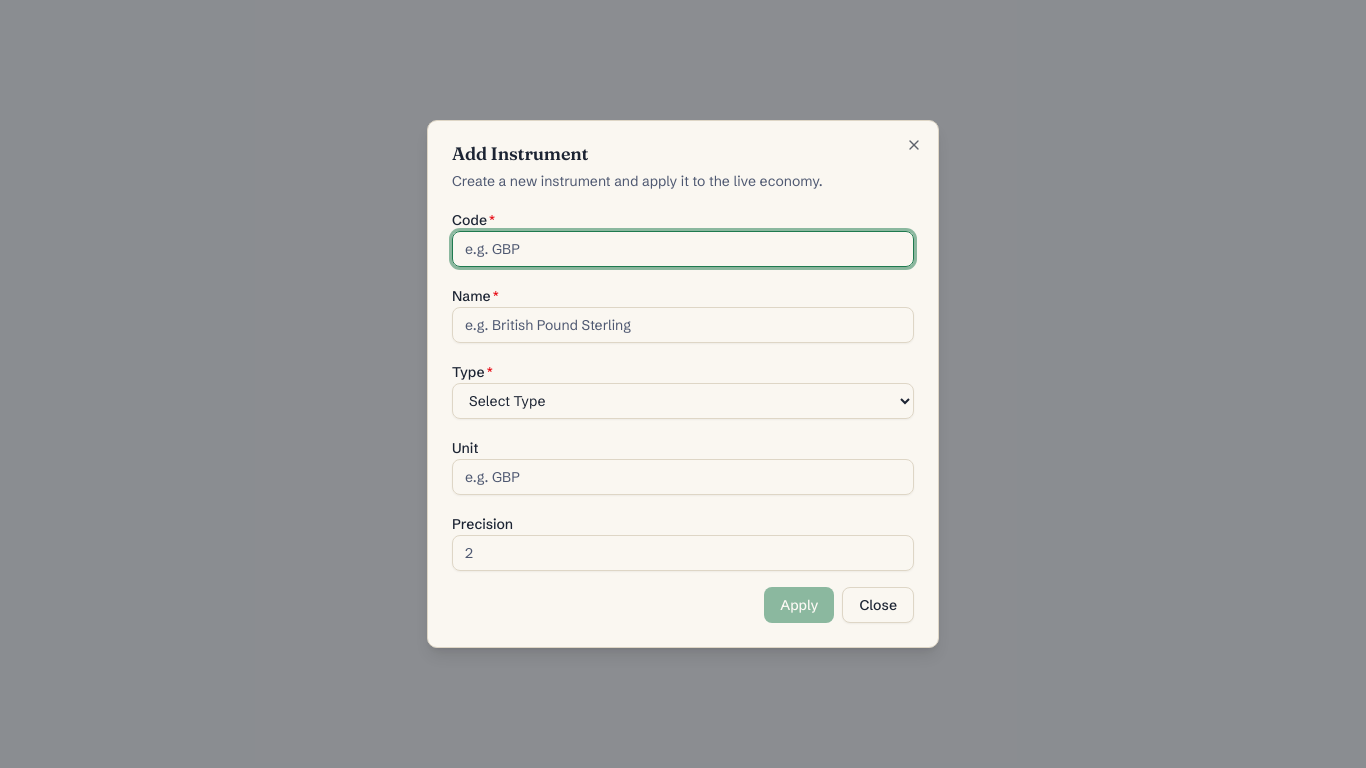
Scenario: ApplyResourceModal › shows error message on failure
This screenshot has width=1366, height=768.
Type "GBP" into the field labelled "Code" at coordinates (683, 249), box [452,231,914,267]
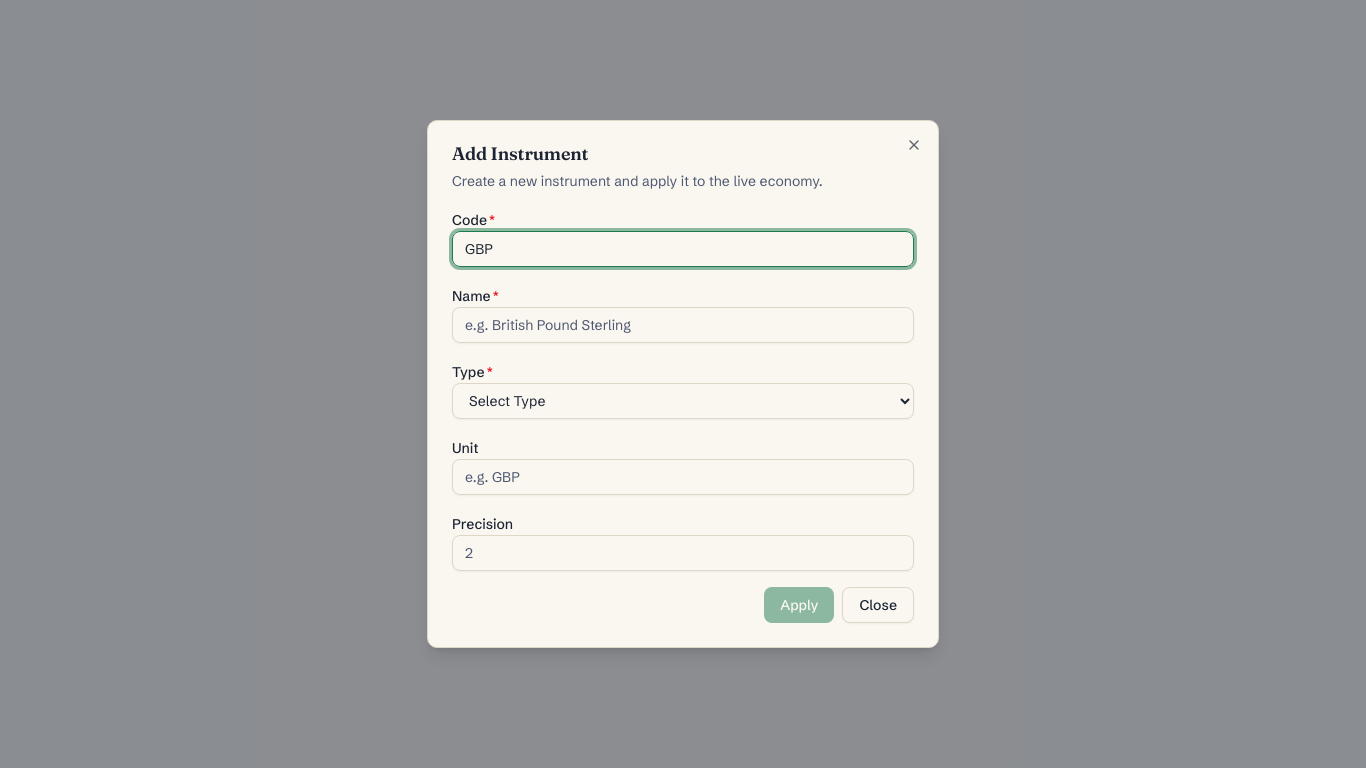
Type "British Pound" into the field labelled "Name" at coordinates (683, 325), box [452,307,914,343]
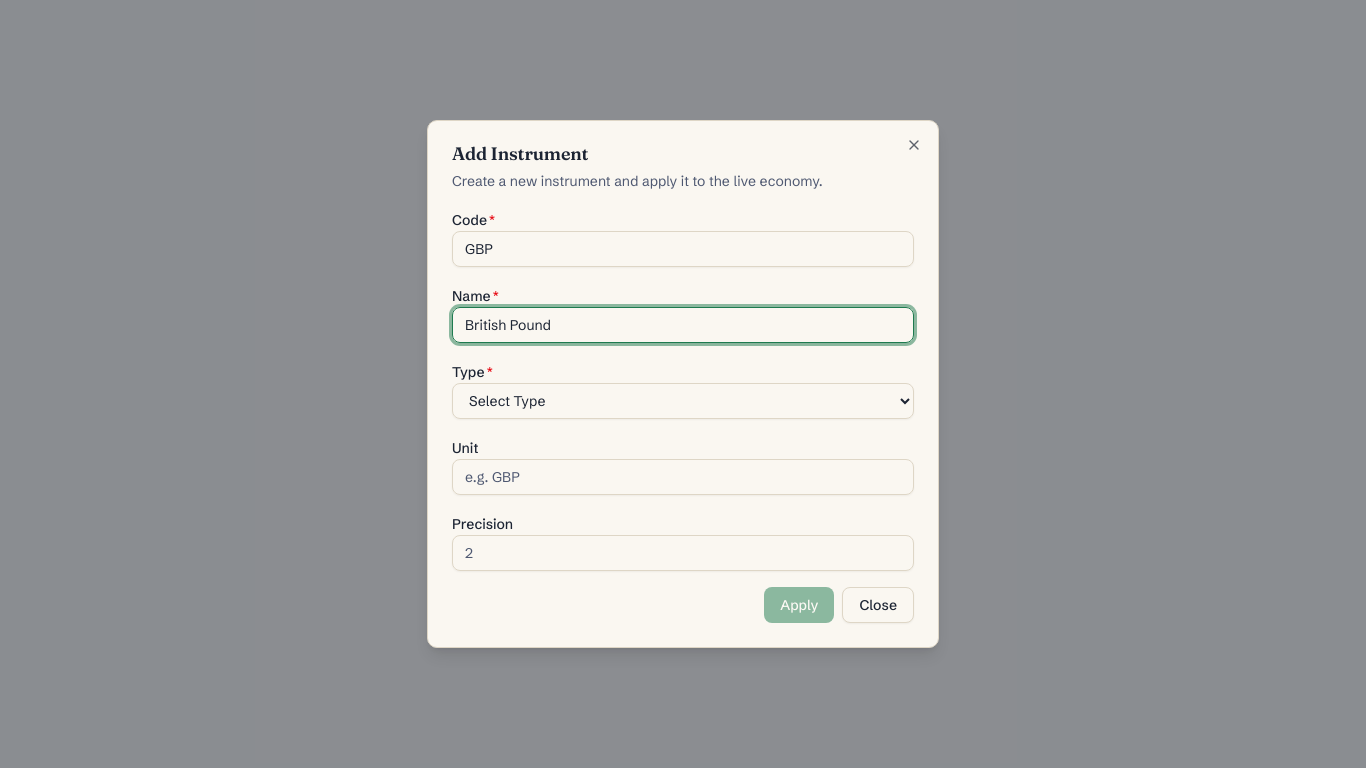
Select "Fiat" in the dropdown labelled "Type" at coordinates (683, 401), box [452,383,914,419]
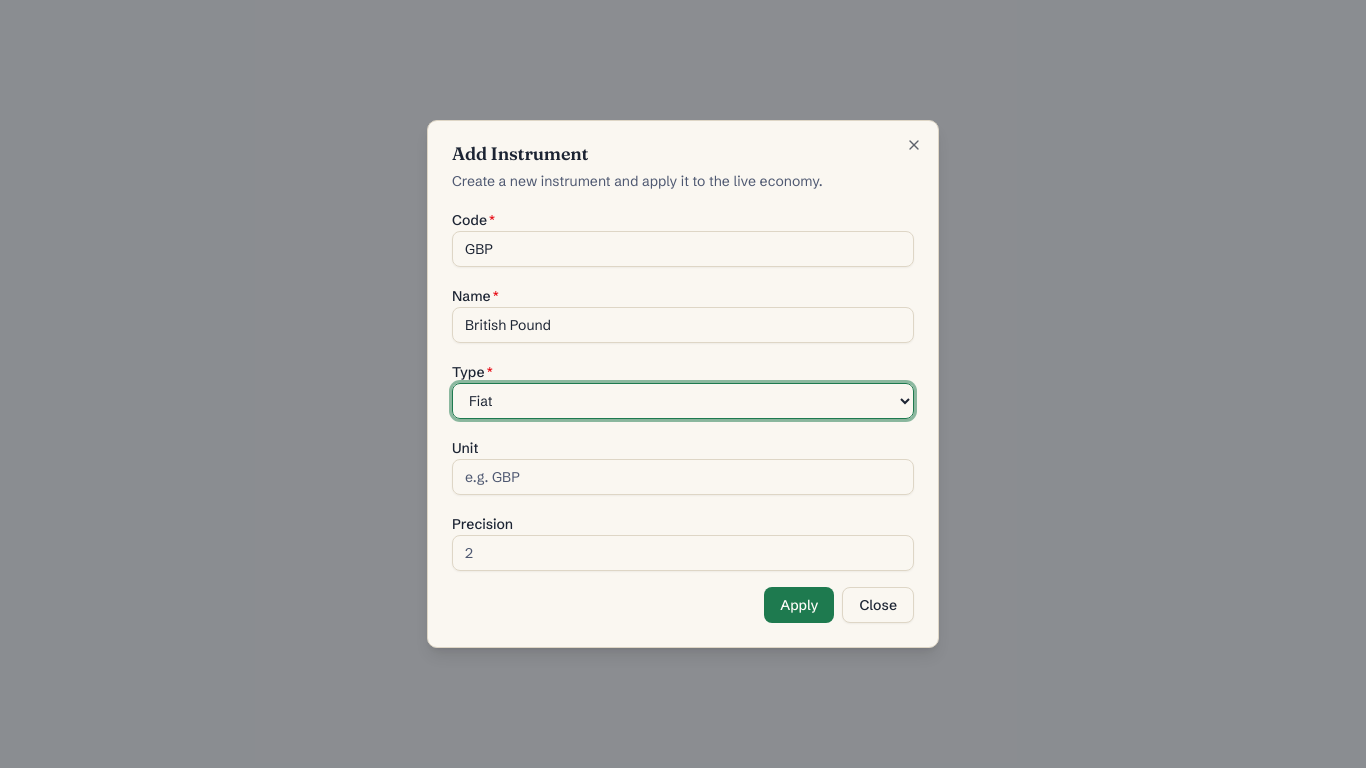
Click the button with test id "apply-resource-submit" at coordinates (799, 605), box [764,587,834,623]
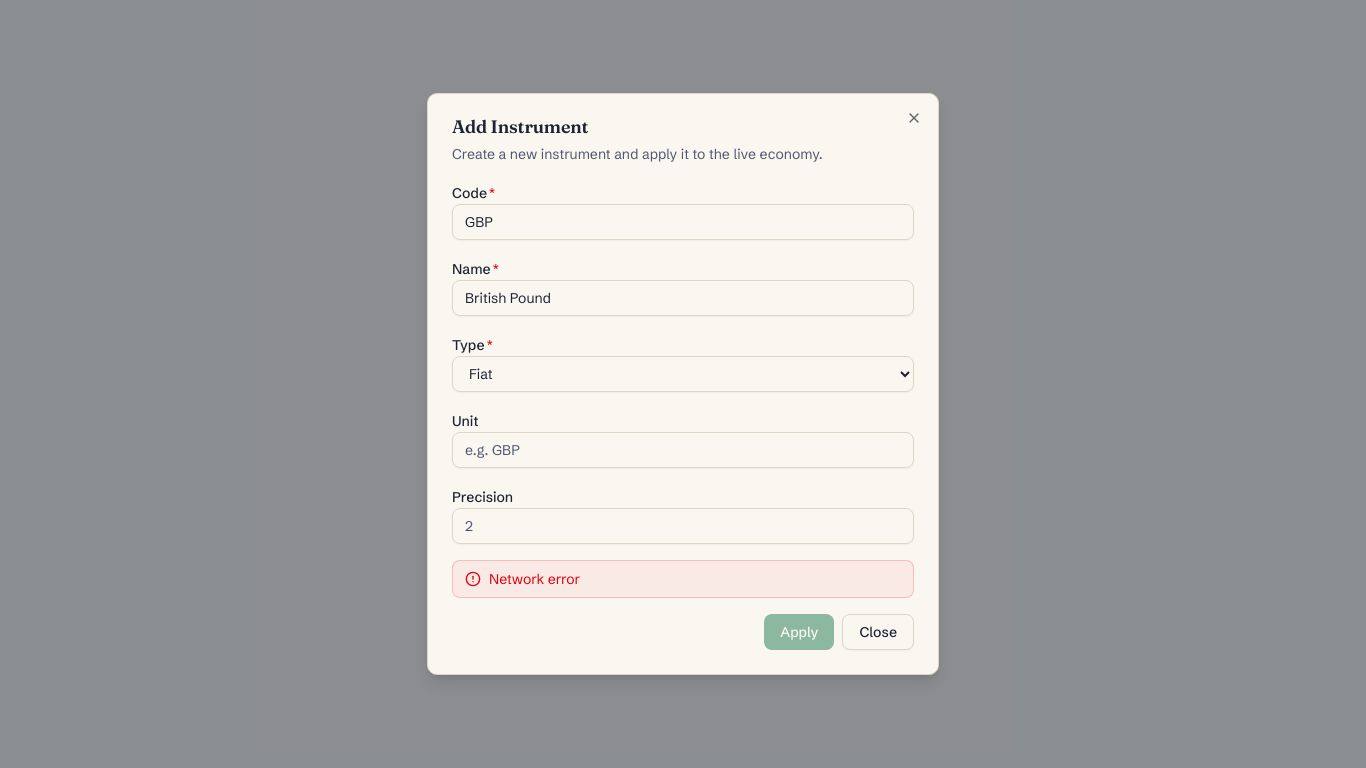
Result: the element with test id "apply-resource-error" is shown at [452,560,914,598]
Result: the text "Network error" is shown at [489,569,580,589]
